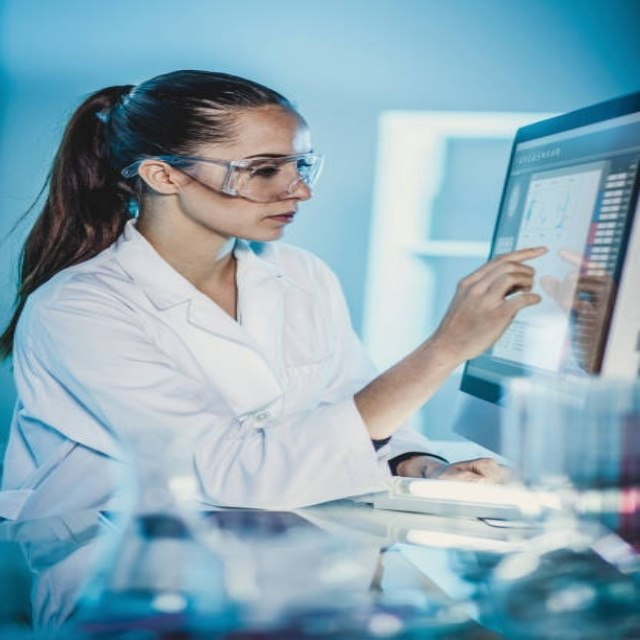Gafas: (127, 152, 326, 201)
Sin_guantes: (431, 242, 552, 358), (426, 447, 509, 487)
Sin_mascara: (243, 203, 303, 243)
